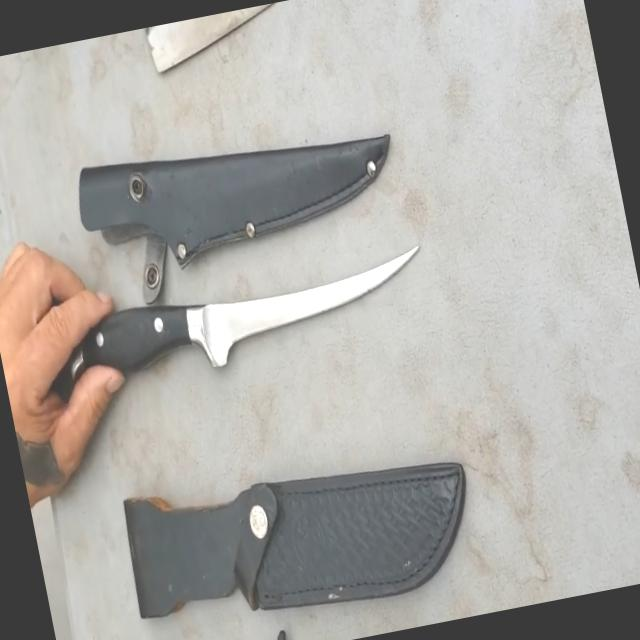knife: (11, 192, 472, 432)
